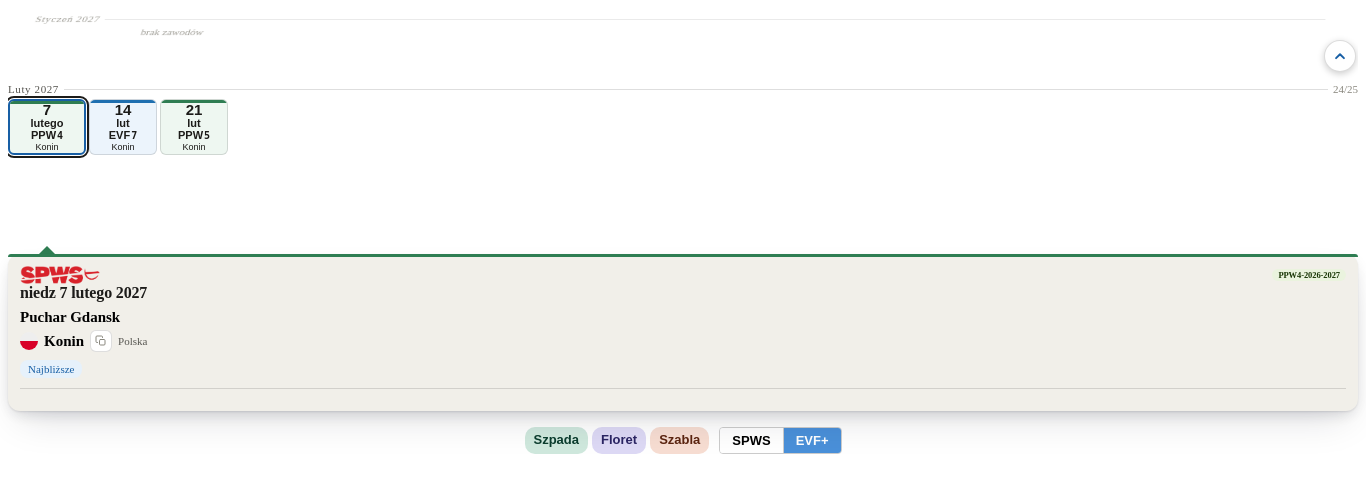
it: CalendarView orchestrator (ADR-084) › CV.9: falls back when the selection leaves the model
What coordinates should you click on to do the following:
click the button "14 lut EVF7 Konin"
I would click on:
 (123, 127)
Its box is [89, 99, 157, 155].
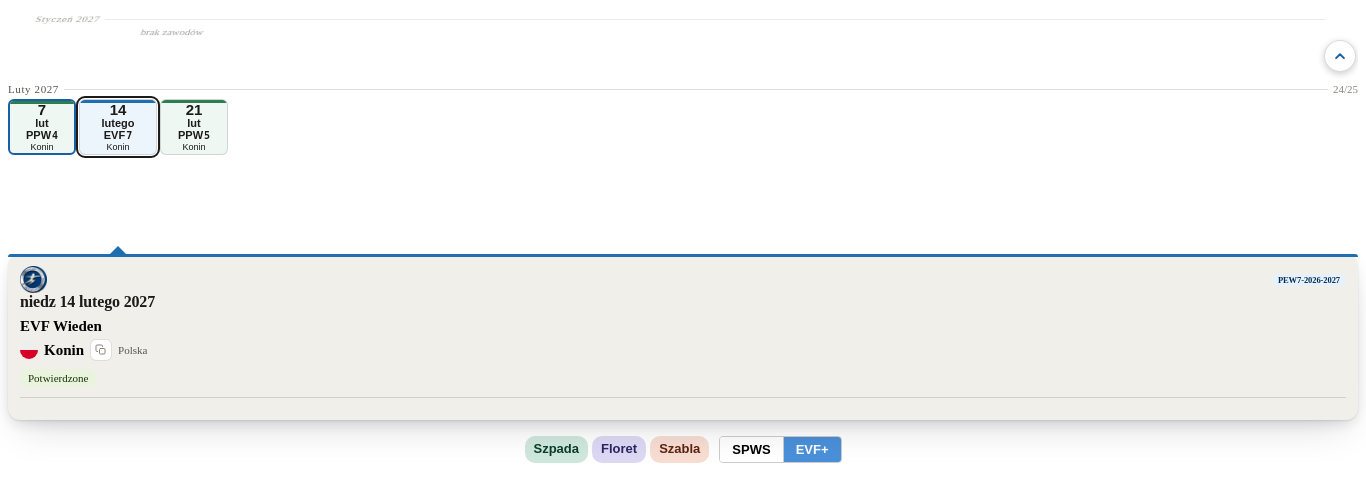
Result: the text with class "cnm" reads "EVF Wieden" at [20, 318, 102, 334]
What coordinates should you click on to do the following:
click the button "SPWS"
I would click on:
 (751, 450)
Its box is [720, 437, 783, 462].
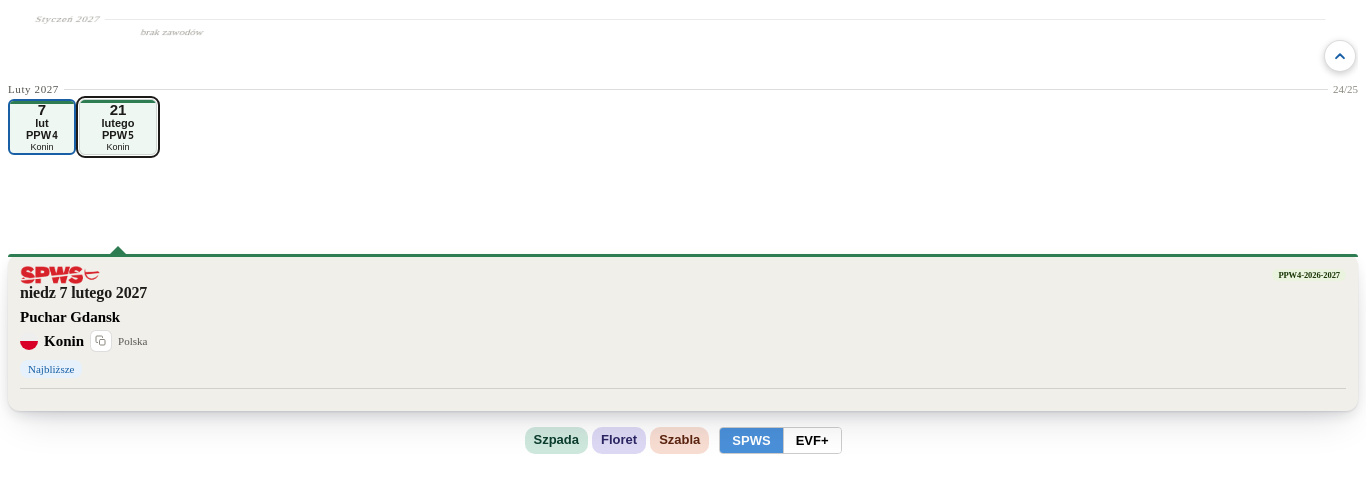
Result: the text with class "cnm" reads "Puchar Gdansk" at [20, 309, 120, 325]
